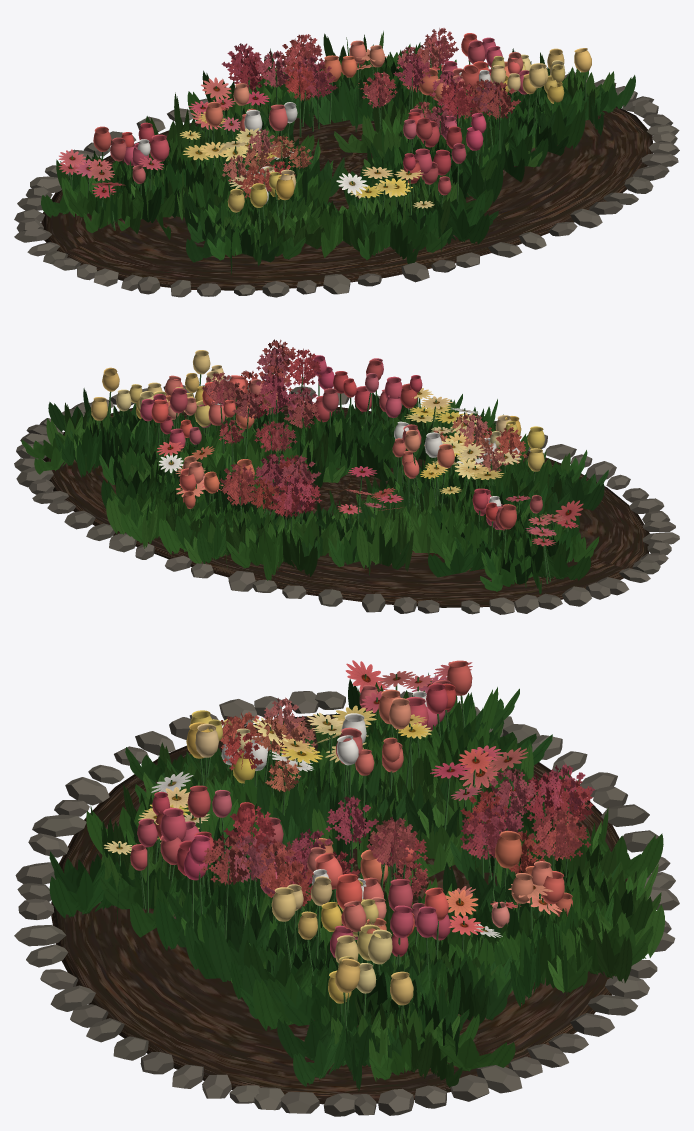
The model's file is flower-bed-1.glb.
3 views of the same model, one above another, from view 1: azimuth 30°, elevation 25°; view 2: azimuth 150°, elevation 25°; view 3: azimuth 270°, elevation 25° (orthographic). The views are drawn at different scales.
Parts seen in each view (by area): view 1: flower-bed-1_FlowerFoliage, flower-bed-1_Mulch, flower-bed-1_FlowerCup, flower-bed-1_FlowerFloret, flower-bed-1_EdgeStone, flower-bed-1_FlowerDaisy, flower-bed-1_FlowerStem; view 2: flower-bed-1_FlowerFoliage, flower-bed-1_Mulch, flower-bed-1_FlowerCup, flower-bed-1_EdgeStone, flower-bed-1_FlowerFloret, flower-bed-1_FlowerDaisy, flower-bed-1_FlowerStem; view 3: flower-bed-1_FlowerFoliage, flower-bed-1_Mulch, flower-bed-1_EdgeStone, flower-bed-1_FlowerCup, flower-bed-1_FlowerFloret, flower-bed-1_FlowerDaisy, flower-bed-1_FlowerStem.
Boxes of the visible parts, x1,y1,x2,y2 form: flower-bed-1_FlowerFoliage: (41, 31, 635, 274); flower-bed-1_Mulch: (41, 106, 653, 290); flower-bed-1_FlowerCup: (93, 33, 591, 212); flower-bed-1_FlowerFloret: (221, 28, 520, 197); flower-bed-1_EdgeStone: (14, 68, 679, 297); flower-bed-1_FlowerDaisy: (58, 49, 443, 208); flower-bed-1_FlowerStem: (69, 57, 586, 232); flower-bed-1_FlowerFoliage: (21, 388, 608, 594); flower-bed-1_Mulch: (43, 402, 649, 607); flower-bed-1_FlowerCup: (91, 350, 544, 530); flower-bed-1_EdgeStone: (14, 385, 679, 614); flower-bed-1_FlowerFloret: (202, 339, 526, 518); flower-bed-1_FlowerDaisy: (157, 388, 583, 546); flower-bed-1_FlowerStem: (98, 372, 569, 583); flower-bed-1_FlowerFoliage: (49, 673, 664, 1091); flower-bed-1_Mulch: (51, 714, 630, 1104); flower-bed-1_EdgeStone: (14, 691, 679, 1116); flower-bed-1_FlowerCup: (130, 660, 572, 1005); flower-bed-1_FlowerFloret: (201, 697, 594, 909); flower-bed-1_FlowerDaisy: (104, 660, 562, 937); flower-bed-1_FlowerStem: (118, 674, 568, 1030).
Size of the model in its own units: 3.57 by 0.6896 by 2.37.
7 materials, 4 textured.
